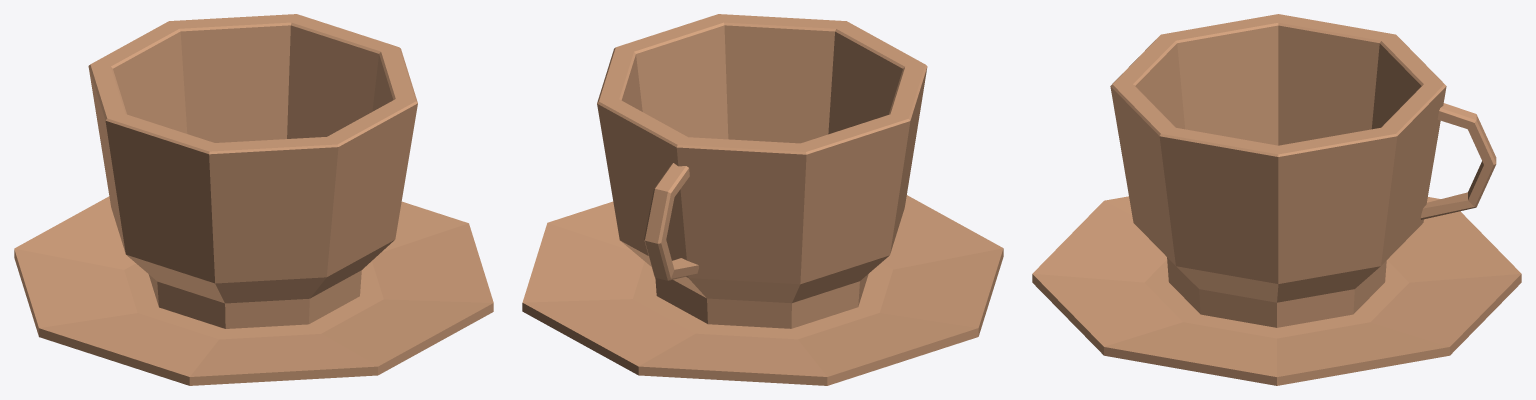
The model's file is TeaCup1.glb.
3 views of the same model, side by side, from view 1: azimuth 30°, elevation 25°; view 2: azimuth 150°, elevation 25°; view 3: azimuth 270°, elevation 25° (orthographic).
Visible parts, largest first — view 1: TeaCup1, Plate1TeaCup1; view 2: TeaCup1, Plate1TeaCup1; view 3: TeaCup1, Plate1TeaCup1.
Boxes of the visible parts, box(x1,y1,x2,y2) form: TeaCup1: box(88, 14, 417, 328); Plate1TeaCup1: box(14, 196, 493, 385); TeaCup1: box(597, 14, 927, 328); Plate1TeaCup1: box(522, 195, 1003, 385); TeaCup1: box(1110, 14, 1496, 327); Plate1TeaCup1: box(1032, 196, 1521, 385).
Bounding box in the file's own units: 0.248 × 0.1143 × 0.248.
